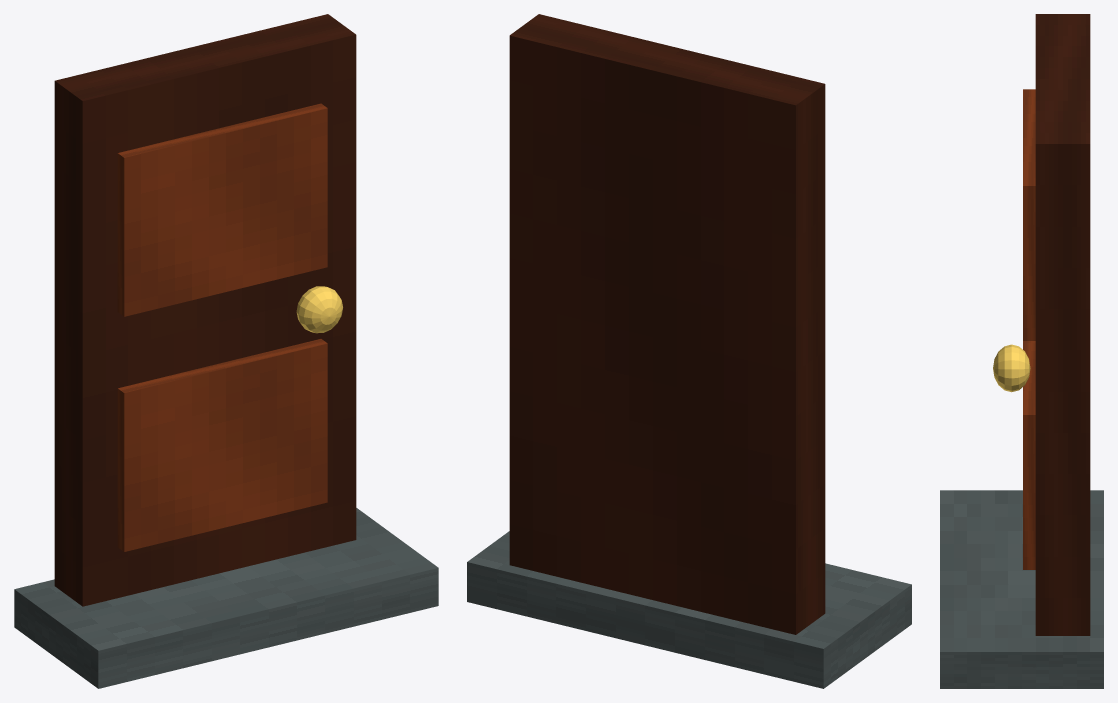
File: bp_decordoor.glb
The picture shows the model from 3 angles, left to right: view 1: azimuth 30°, elevation 25°; view 2: azimuth 150°, elevation 25°; view 3: azimuth 270°, elevation 25°; orthographic projection. The views are drawn at different scales.
Parts seen in each view (by area): view 1: Door, Panel.001, Panel, Step, Knob; view 2: Door, Step; view 3: Door, Step, Panel.001, Panel, Knob.
Part boxes in pixels (x1=…): Door: x1=54, y1=14, x2=356, y2=606; Panel.001: x1=117, y1=103, x2=327, y2=316; Panel: x1=117, y1=339, x2=327, y2=551; Step: x1=14, y1=508, x2=438, y2=688; Knob: x1=296, y1=286, x2=342, y2=333; Door: x1=509, y1=14, x2=825, y2=634; Step: x1=467, y1=531, x2=911, y2=688; Door: x1=1035, y1=14, x2=1090, y2=635; Step: x1=940, y1=490, x2=1103, y2=688; Panel.001: x1=1023, y1=89, x2=1035, y2=340; Panel: x1=1023, y1=341, x2=1035, y2=569; Knob: x1=993, y1=344, x2=1030, y2=392.
Size of the model in its own units: 1.12 by 1.71 by 0.4799.
4 materials, 3 textured.
